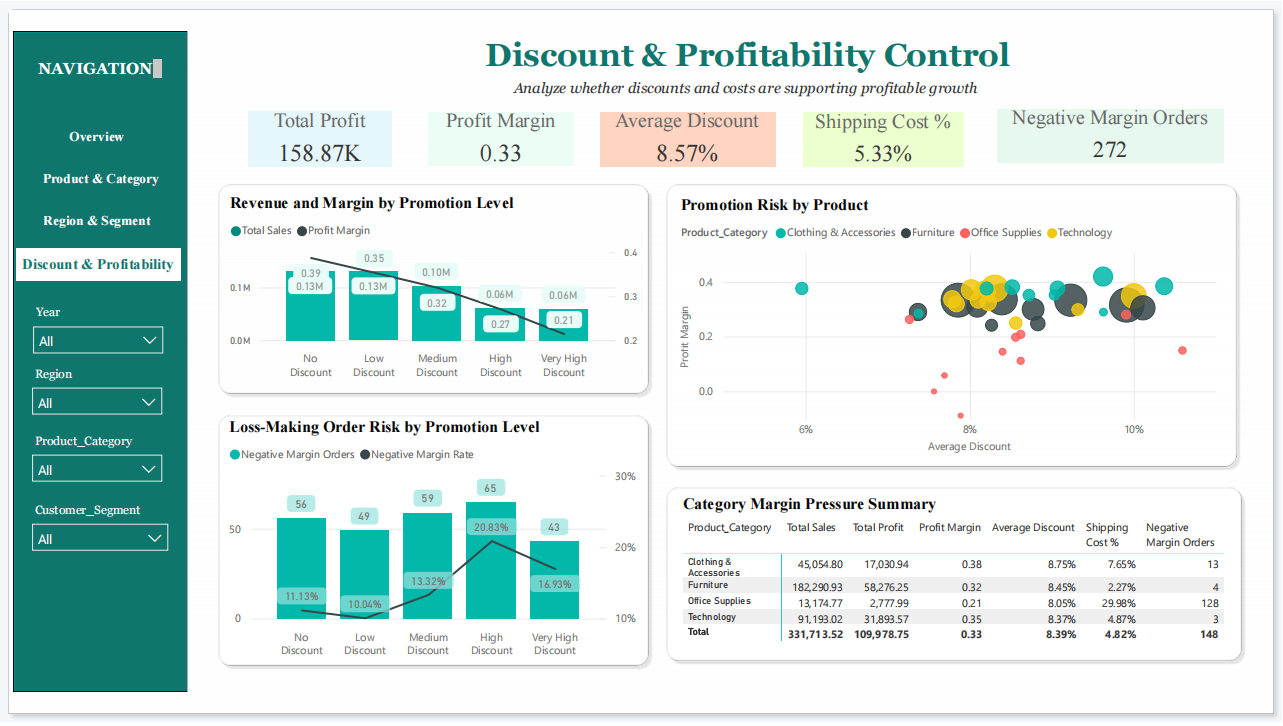

This screenshot's page, from the dashboard's own definition file:
{"tool":"powerbi","page":{"name":"Discount & Profitability","canvas":[1280,720],"ordinal":3},"visuals":[{"type":"shape","box":[0,0,1280,720],"z":0},{"type":"shape","box":[13.3,30,173.3,660],"z":1000},{"type":"textbox","box":[32.5,52.5,133.8,28.8],"z":2000},{"type":"actionButton","box":[22.2,117.8,150,35.6],"z":3000},{"type":"actionButton","box":[24,163,154,29],"z":4000},{"type":"actionButton","box":[22.2,202.2,150,35.6],"z":5000},{"type":"actionButton","box":[15.8,246.7,164.2,32.5],"z":6000},{"type":"slicer","fields":{"Values":["Date Table.Year"]},"box":[23.3,298.9,150,57.8],"z":7000},{"type":"slicer","fields":{"Values":["Sales.Region"]},"box":[22.2,360,150,60],"z":8000},{"type":"slicer","fields":{"Values":["Sales.Product_Category"]},"box":[22.2,426.7,150,58.9],"z":9000},{"type":"slicer","fields":{"Values":["Sales.Customer_Segment"]},"box":[22.2,495.6,155.6,61.1],"z":10000},{"type":"textbox","box":[362,12,770,78],"z":11000},{"type":"textbox","box":[420,72,650,38],"z":12000},{"type":"cardVisual","fields":{"Data":["Date Table.Negative Margin Orders"]},"box":[991.2,102.5,236.2,63.8],"z":13000},{"type":"cardVisual","fields":{"Data":["Date Table.Total Profit"]},"box":[242.5,105,153.8,65],"z":14000},{"type":"cardVisual","fields":{"Data":["Date Table.Profit Margin"]},"box":[422.5,106.2,155,63.8],"z":15000},{"type":"cardVisual","fields":{"Data":["Date Table.Shipping Cost %"]},"box":[796.7,105.6,170,64.4],"z":16000},{"type":"shape","box":[660,177.5,580,292.5],"z":17000},{"type":"shape","box":[212.5,177.5,440,220],"z":18000,"group":"g4"},{"type":"shape","box":[212.5,407.5,440,261.2],"z":18000,"group":"g3"},{"type":"group","id":"g1","title":"Group 1","box":[660,480,584.5,183.6],"z":19000,"group":"g2"},{"type":"shape","box":[660,480,584.5,183.6],"z":19000,"group":"g1"},{"type":"lineClusteredColumnComboChart","title":"Revenue and Margin by Promotion Level","fields":{"Y":["Date Table.Total Sales"],"Category":["Sales.Discount_Band"],"Y2":["Date Table.Profit Margin"]},"box":[224.3,192.1,417.3,193.8],"z":20000,"group":"g4"},{"type":"pivotTable","title":"Category Margin Pressure Summary","fields":{"Values":["Date Table.Total Sales","Date Table.Total Profit","Date Table.Profit Margin","Date Table.Average Discount","Date Table.Shipping Cost %","Date Table.Negative Margin Orders"],"Rows":["Sales.Product_Category"]},"box":[677.3,492.7,550,158.2],"z":21000,"group":"g2"},{"type":"cardVisual","fields":{"Data":["Date Table.Average Discount %"]},"box":[594.4,105.6,185.6,64.4],"z":22000},{"type":"scatterChart","title":"Promotion Risk by Product","fields":{"X":["Date Table.Average Discount"],"Y":["Date Table.Profit Margin"],"Category":["Sales.Product_Name"],"Series":["Sales.Product_Category"],"Size":["Date Table.Total Sales"]},"box":[675,195,555,261.2],"z":23000},{"type":"lineClusteredColumnComboChart","title":"Loss-Making Order Risk by Promotion Level","fields":{"Category":["Sales.Discount_Band"],"Y":["Date Table.Negative Margin Orders"],"Y2":["Date Table.Negative Margin Rate"]},"box":[223.7,415,416.2,248.8],"z":24000,"group":"g3"},{"type":"group","id":"g2","title":"Group 2","box":[660,480,586.2,183.8],"z":24001},{"type":"group","id":"g3","title":"Group 5","box":[212.5,407.5,440,261.2],"z":24003},{"type":"group","id":"g4","title":"Group 3","box":[212.5,177.5,440,220],"z":24004}]}

Visuals, with their boxes in screenshot pixels (x1, y1, x2, y2), scaled from the page's 1280x720 canvas onto the 1283x726 screenshot:
shape: [0, 0, 1282, 725]
shape: [13, 30, 187, 696]
textbox: [33, 53, 167, 82]
actionButton: [22, 119, 173, 155]
actionButton: [24, 164, 178, 194]
actionButton: [22, 204, 173, 240]
actionButton: [16, 249, 180, 282]
slicer - Date Table.Year: [23, 301, 174, 360]
slicer - Sales.Region: [22, 363, 173, 424]
slicer - Sales.Product_Category: [22, 430, 173, 490]
slicer - Sales.Customer_Segment: [22, 500, 178, 561]
textbox: [363, 12, 1135, 91]
textbox: [421, 73, 1073, 111]
cardVisual - Date Table.Negative Margin Orders: [994, 103, 1230, 168]
cardVisual - Date Table.Total Profit: [243, 106, 397, 171]
cardVisual - Date Table.Profit Margin: [423, 107, 579, 171]
cardVisual - Date Table.Shipping Cost %: [799, 106, 969, 171]
shape: [662, 179, 1243, 474]
shape: [213, 179, 654, 401]
shape: [213, 411, 654, 674]
"Group 1" group: [662, 484, 1247, 669]
shape: [662, 484, 1247, 669]
"Revenue and Margin by Promotion Level" lineClusteredColumnComboChart: [225, 194, 643, 389]
"Category Margin Pressure Summary" pivotTable: [679, 497, 1230, 656]
cardVisual - Date Table.Average Discount %: [596, 106, 782, 171]
"Promotion Risk by Product" scatterChart: [677, 197, 1233, 460]
"Loss-Making Order Risk by Promotion Level" lineClusteredColumnComboChart: [224, 418, 641, 669]
"Group 2" group: [662, 484, 1249, 669]
"Group 5" group: [213, 411, 654, 674]
"Group 3" group: [213, 179, 654, 401]
